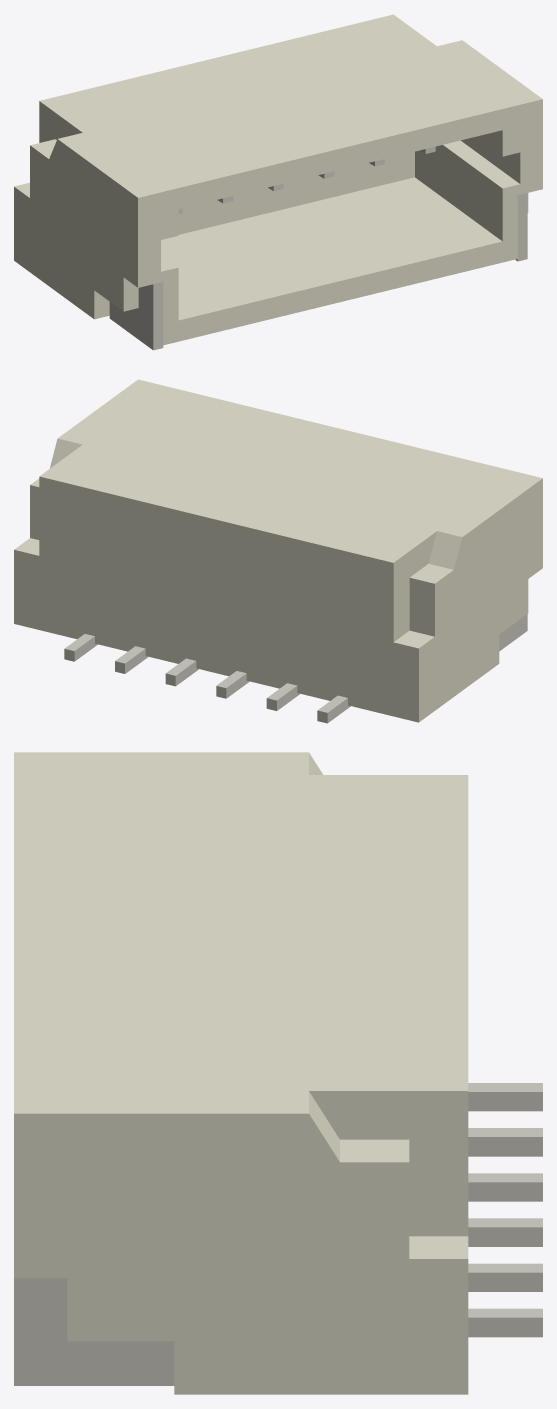
Rendered from kc-jst_sh_sm06b-srss-tb_1x06-1mp_p1.00mm_horizontal.glb.
The picture shows the model from 3 angles, top to bottom: view 1: azimuth 30°, elevation 25°; view 2: azimuth 150°, elevation 25°; view 3: azimuth 270°, elevation 25°; orthographic projection. The views are drawn at different scales.
Visible parts, largest first — view 1: 0.75_0.75_0.6666666666666666_0, 0.6666666666666666_0.6666666666666666_0.5833333333333334_0.8; view 2: 0.75_0.75_0.6666666666666666_0, 0.6666666666666666_0.6666666666666666_0.5833333333333334_0.8; view 3: 0.75_0.75_0.6666666666666666_0, 0.6666666666666666_0.6666666666666666_0.5833333333333334_0.8.
Boxes of the visible parts, x1,y1,x2,y2 form: 0.75_0.75_0.6666666666666666_0: [14, 14, 542, 345]; 0.6666666666666666_0.6666666666666666_0.5833333333333334_0.8: [109, 146, 527, 350]; 0.75_0.75_0.6666666666666666_0: [14, 379, 542, 722]; 0.6666666666666666_0.6666666666666666_0.5833333333333334_0.8: [64, 614, 527, 723]; 0.75_0.75_0.6666666666666666_0: [14, 752, 468, 1394]; 0.6666666666666666_0.6666666666666666_0.5833333333333334_0.8: [14, 1083, 542, 1385].
Size of the model in its own units: 0.8 by 0.296 by 0.495.
